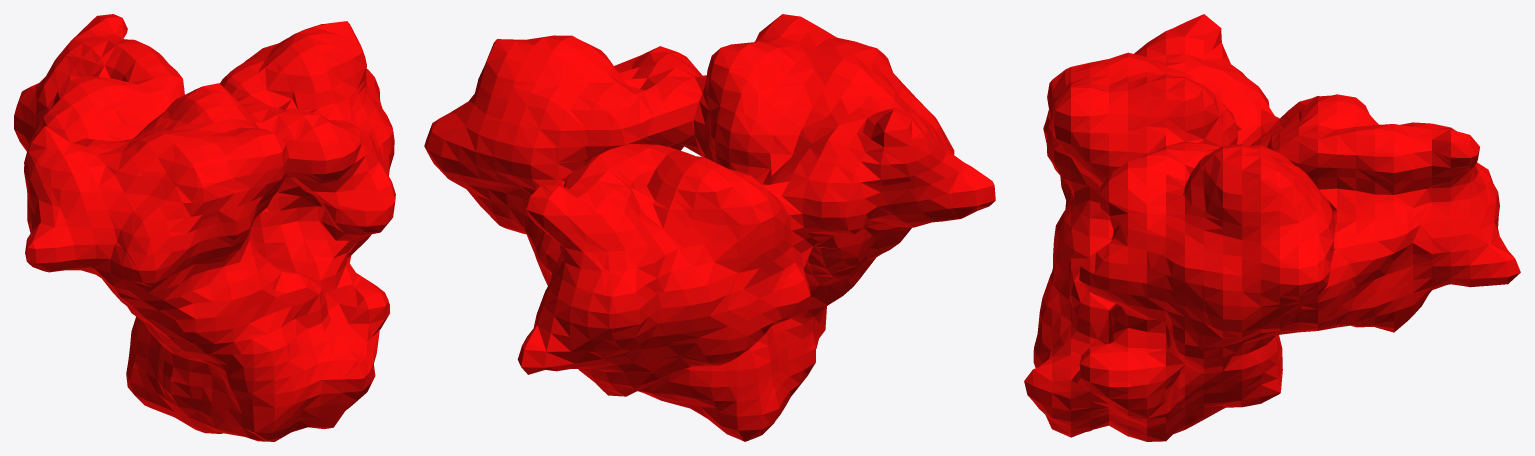
File: Ras_related_protein_Rab_27B_coarse.dae
The picture shows the model from 3 angles, left to right: view 1: azimuth 30°, elevation 25°; view 2: azimuth 150°, elevation 25°; view 3: azimuth 270°, elevation 25°; orthographic projection. The views are drawn at different scales.
Visible parts, largest first — view 1: Ras_related_protein_Rab_27B; view 2: Ras_related_protein_Rab_27B; view 3: Ras_related_protein_Rab_27B.
Part boxes in pixels (bbox=[...]): Ras_related_protein_Rab_27B: bbox=[14, 14, 395, 441]; Ras_related_protein_Rab_27B: bbox=[424, 14, 995, 441]; Ras_related_protein_Rab_27B: bbox=[1024, 14, 1520, 441].
Bounding box in the file's own units: 95.1 × 71.92 × 92.81.
